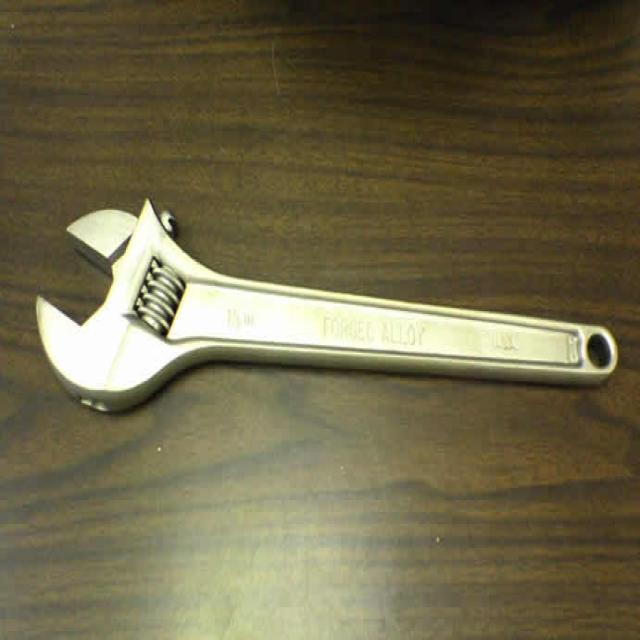wrench: (18, 127, 396, 484)
